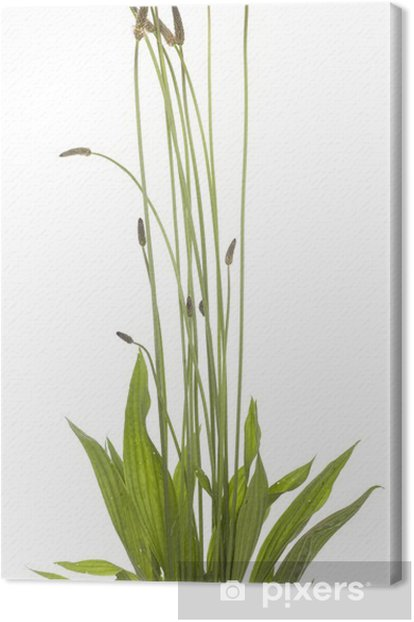buckhorn plantain: (57, 3, 352, 584)
